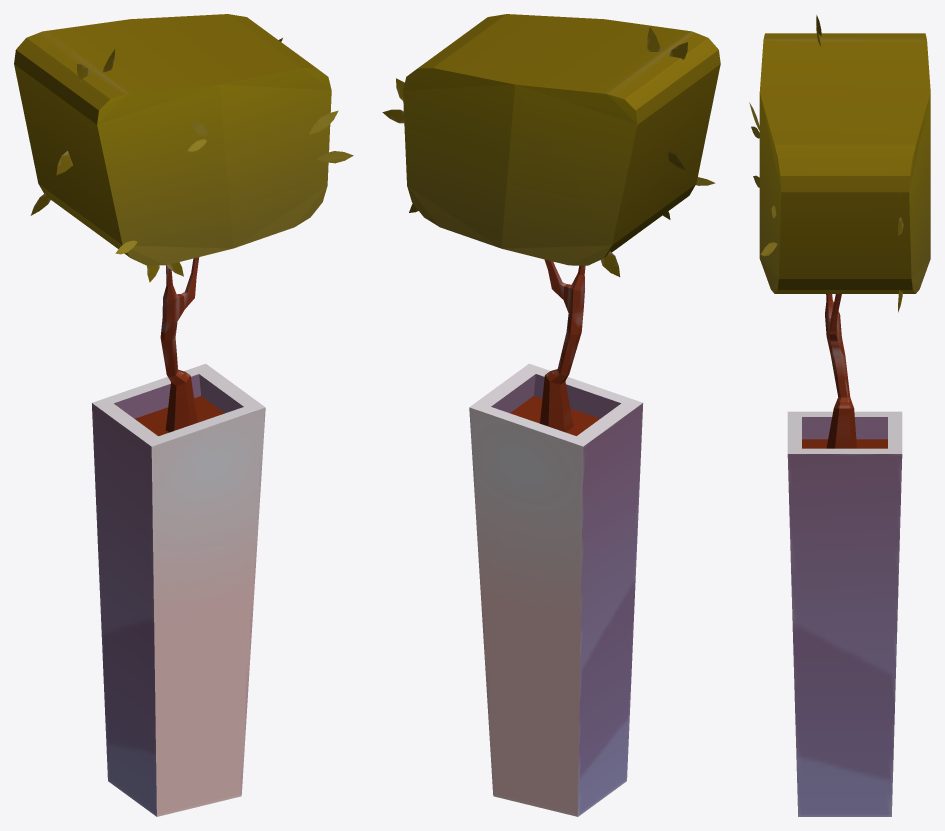
The model's file is Planta_alta.fbx.
The picture shows the model from 3 angles, left to right: view 1: azimuth 30°, elevation 25°; view 2: azimuth 150°, elevation 25°; view 3: azimuth 270°, elevation 25°; orthographic projection. The views are drawn at different scales.
Visible parts, largest first — view 1: Plane.003; view 2: Plane.003; view 3: Plane.003.
Boxes of the visible parts, x1=… form: Plane.003: x1=14, y1=14, x2=353, y2=816; Plane.003: x1=382, y1=14, x2=720, y2=816; Plane.003: x1=749, y1=15, x2=930, y2=816.
Size of the model in its own units: 35.52 by 95.98 by 21.44.
